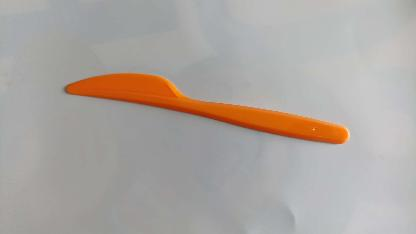Others: (58, 69, 352, 149)
